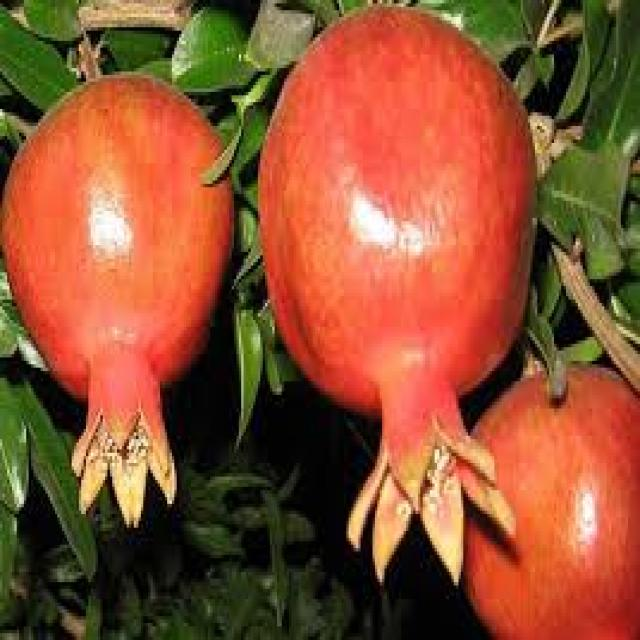Pomegranate: (278, 31, 531, 446), (16, 101, 222, 460), (461, 388, 640, 640)
